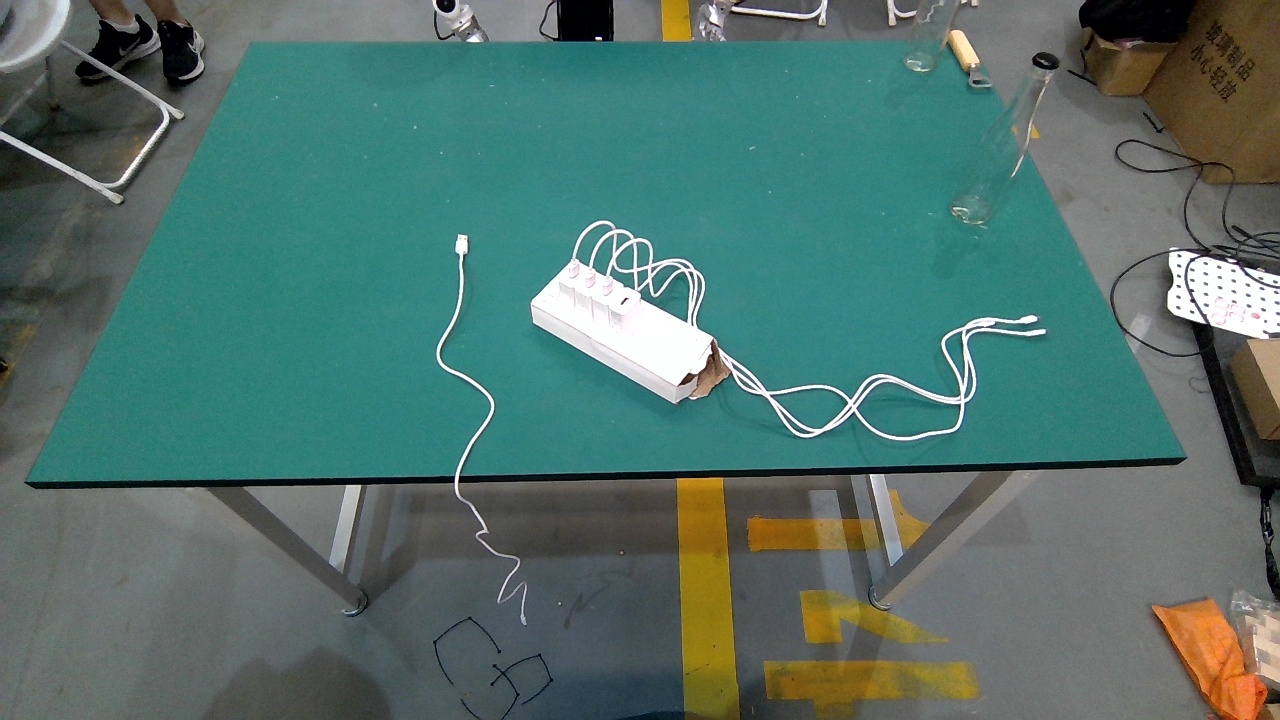usb_a_port: (754, 423, 776, 432), (807, 424, 826, 434), (758, 453, 777, 463), (702, 449, 723, 458), (811, 457, 831, 466), (701, 420, 719, 429)
